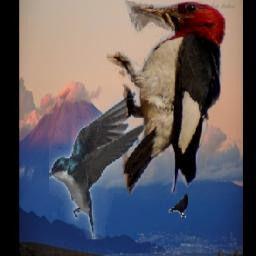Crow: (169, 194, 188, 218)
Swallow: (50, 90, 149, 239)
Woodpecker: (107, 1, 225, 196)
